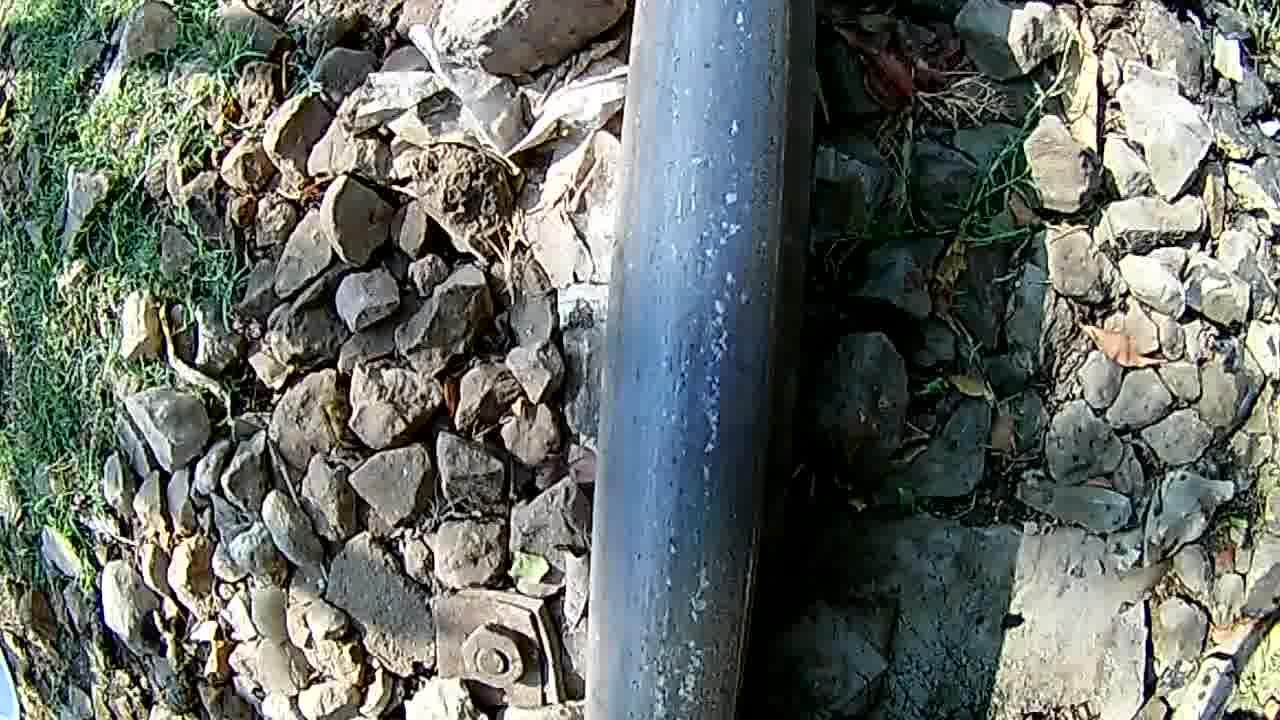clip_missing: (582, 0, 802, 720)
